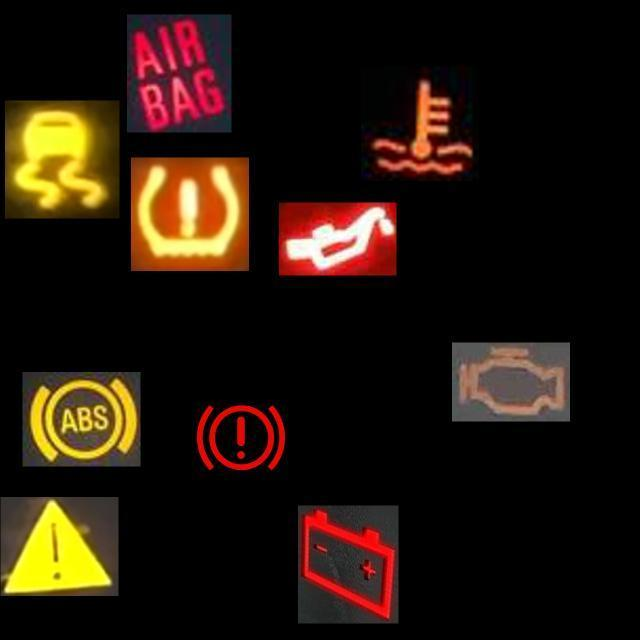Central Warning lamp: (0, 497, 119, 596)
Engine cooling system: (361, 66, 479, 182)
